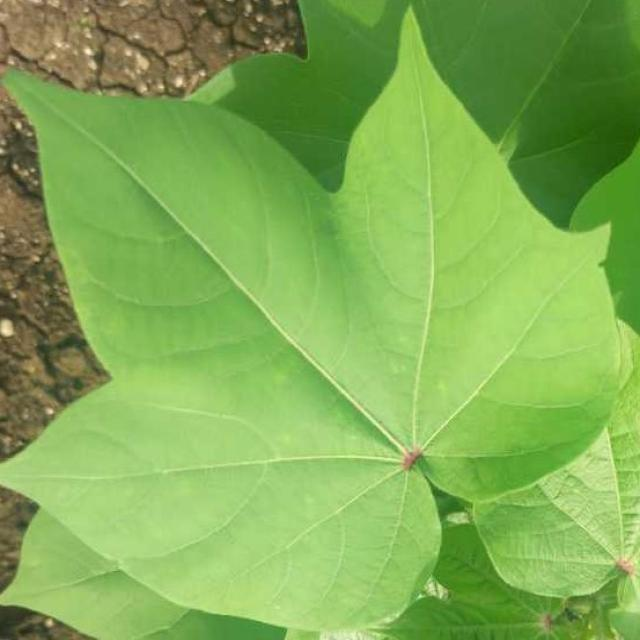Healthy Leaf: (38, 67, 598, 582)
